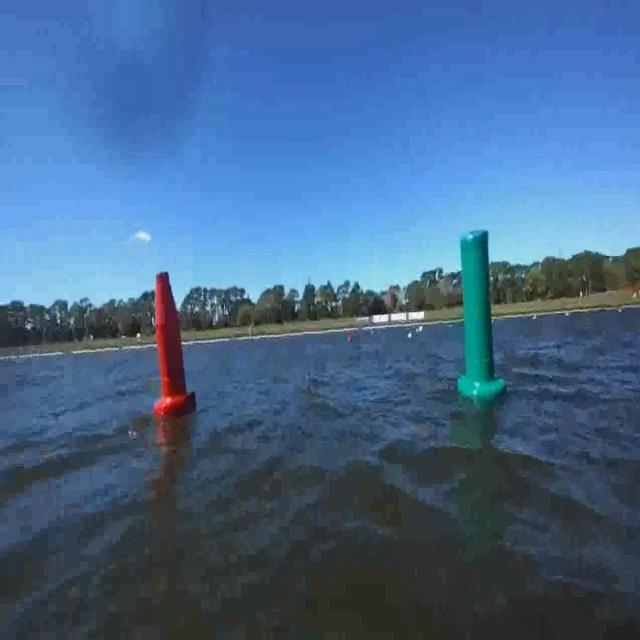green-column-buoy: (458, 232, 506, 402)
red-column-buoy: (152, 269, 194, 418)
